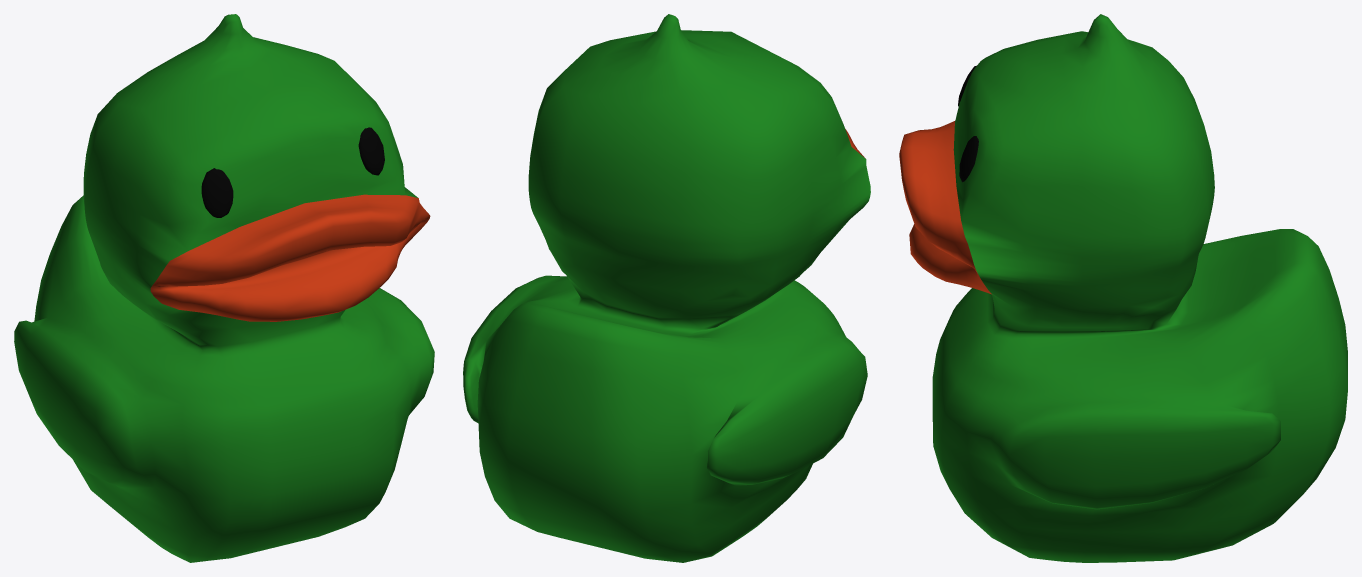
Rendered from Green_duckie.FBX.
3 renders of one model, left to right at view 1: azimuth 30°, elevation 25°; view 2: azimuth 150°, elevation 25°; view 3: azimuth 270°, elevation 25°, orthographic. The views are drawn at different scales.
Parts seen in each view (by area): view 1: duckie, duckie_mouth, eye_left, eye_right; view 2: duckie; view 3: duckie, duckie_mouth, eye_right.
Part boxes in pixels (bbox=[...]): duckie: bbox=[14, 14, 434, 562]; duckie_mouth: bbox=[150, 194, 430, 321]; eye_left: bbox=[201, 168, 233, 217]; eye_right: bbox=[358, 127, 384, 175]; duckie: bbox=[463, 14, 870, 562]; duckie: bbox=[932, 14, 1347, 562]; duckie_mouth: bbox=[899, 121, 991, 294]; eye_right: bbox=[959, 136, 978, 182].
Size of the model in its own units: 3.43 by 5.09 by 4.02.
